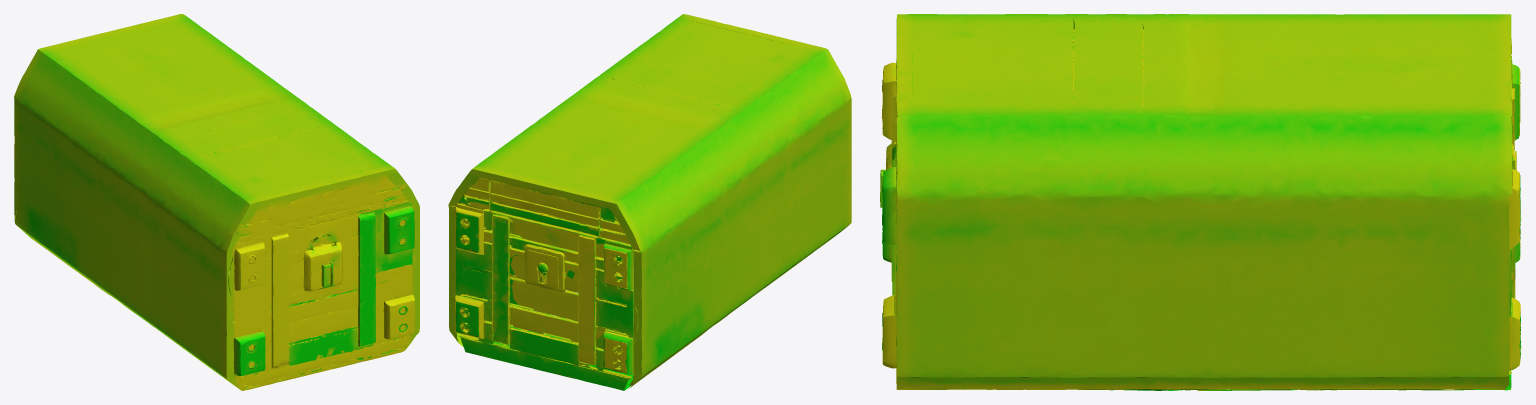
File: lootchest_outline.fbx
The picture shows the model from 3 angles, left to right: view 1: azimuth 30°, elevation 25°; view 2: azimuth 150°, elevation 25°; view 3: azimuth 270°, elevation 25°; orthographic projection. The views are drawn at different scales.
Visible parts, largest first — view 1: lootchest_outline; view 2: lootchest_outline; view 3: lootchest_outline.
Part boxes in pixels (<box>): lootchest_outline: <box>14,14,419,390</box>; lootchest_outline: <box>448,14,851,390</box>; lootchest_outline: <box>880,14,1521,390</box>.
Size of the model in its own units: 196 by 180 by 387.
